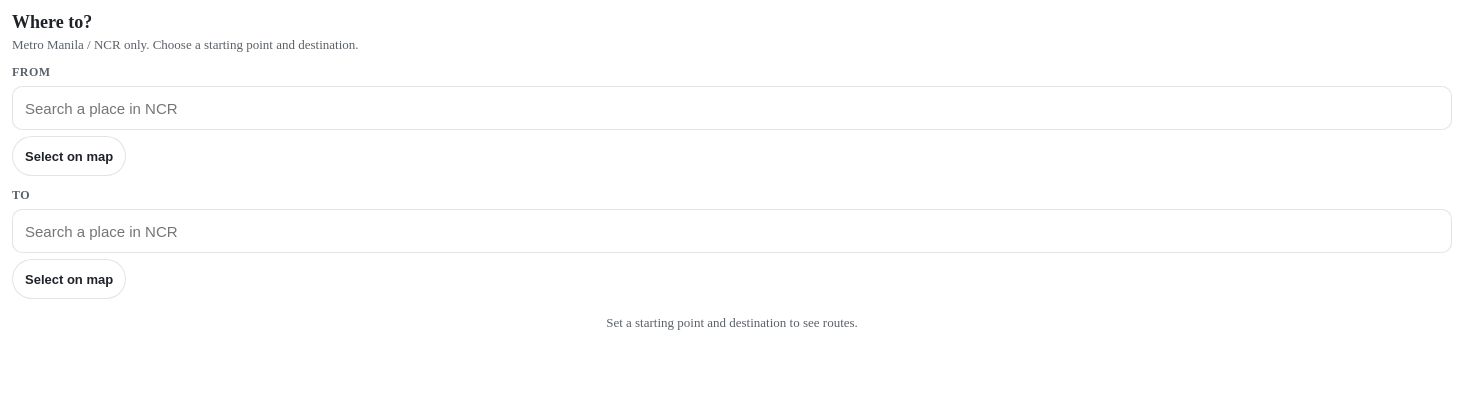
Test: RouteSearchPanel › shows an empty-state row when a query has no NCR match
Type "zzzznowhere" into the dropdown labelled "From" at (732, 108), box [12,86,1452,130]
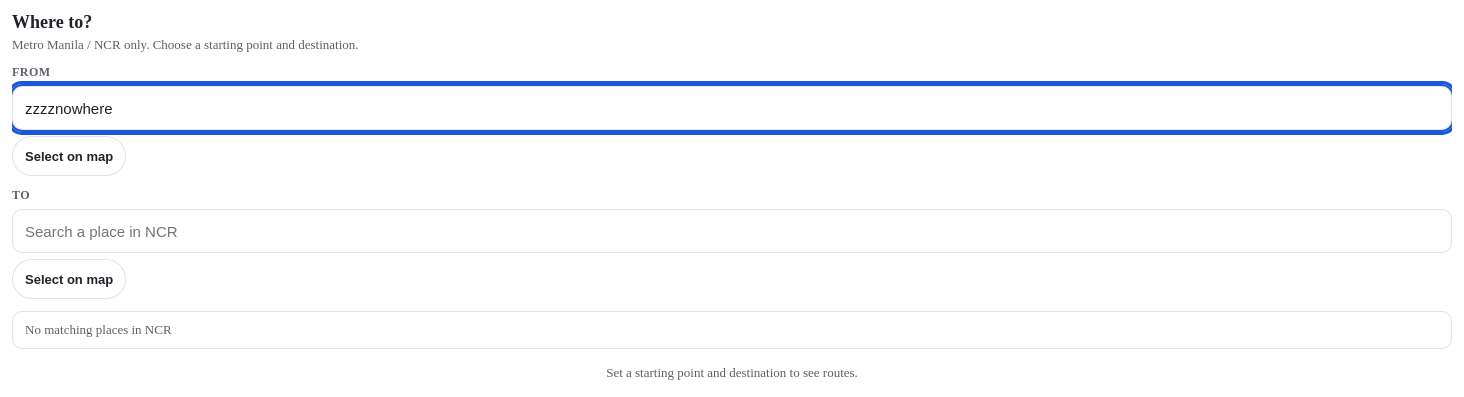
Expected: the option "No matching places in NCR" is shown, [25,322,172,337]
